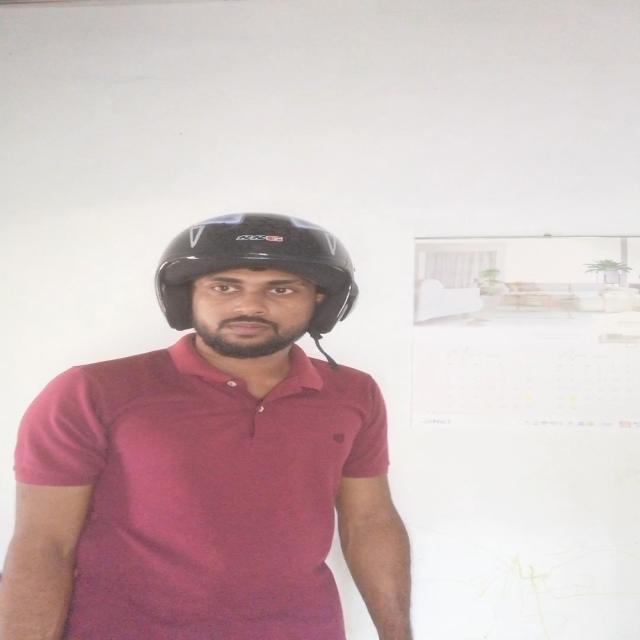Helmet_Wearer: (135, 204, 366, 370)
